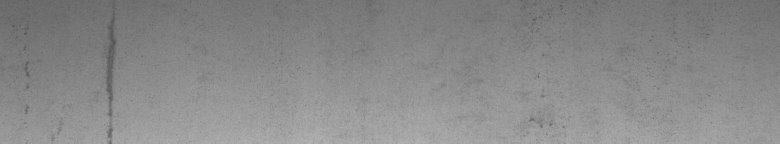hd: (101, 13, 120, 136)
